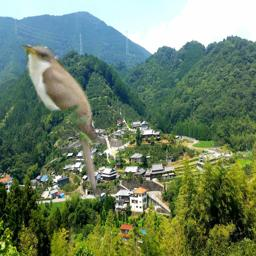Cuckoo: (16, 40, 104, 204)
